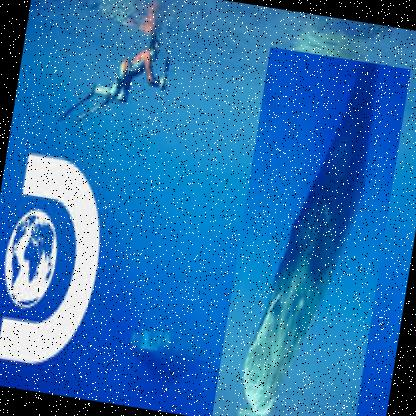blue_whale: (211, 47, 412, 415)
